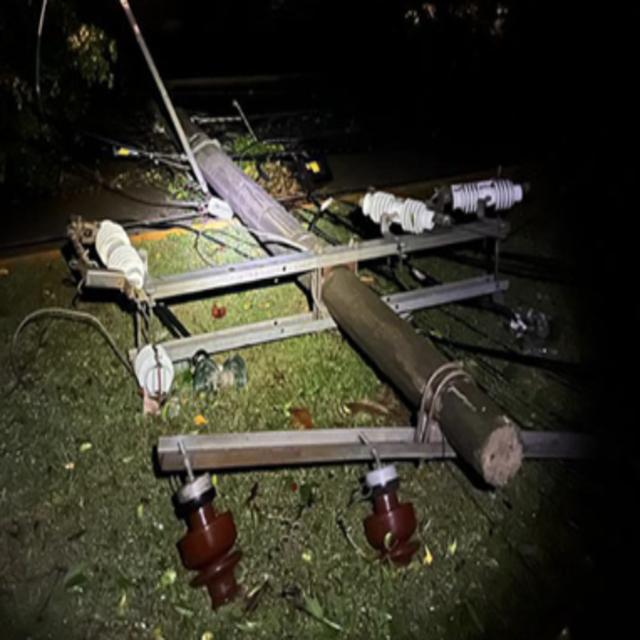Inclined Pole: (74, 124, 622, 612)
